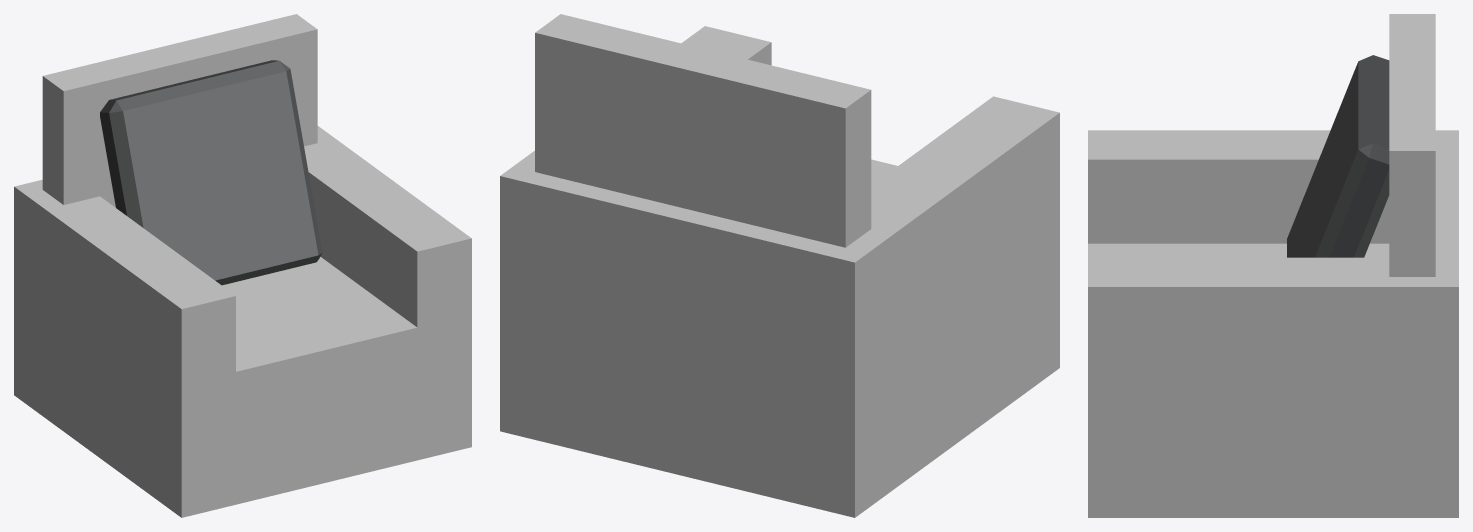
Rendered from fauteuil.gltf.
The picture shows the model from 3 angles, left to right: view 1: azimuth 30°, elevation 25°; view 2: azimuth 150°, elevation 25°; view 3: azimuth 270°, elevation 25°; orthographic projection. The views are drawn at different scales.
Visible parts, largest first — view 1: cube (×7), beveled_cuboid; view 2: cube (×7); view 3: cube (×8), beveled_cuboid.
Boxes of the visible parts, <box> form: cube (×7): <box>14,14,471,517</box>; beveled_cuboid: <box>100,60,322,285</box>; cube (×7): <box>500,14,1059,517</box>; cube (×8): <box>1088,14,1458,517</box>; beveled_cuboid: <box>1287,55,1389,257</box>.
Size of the model in its own units: 10 by 10.62 by 10.
